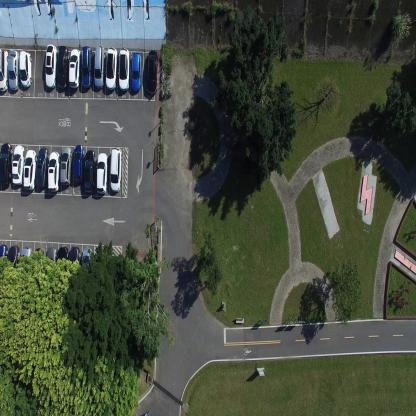car: (7, 244, 20, 291), (22, 149, 36, 190), (68, 245, 81, 289), (146, 50, 159, 94), (20, 245, 33, 288), (45, 43, 57, 89), (7, 48, 20, 90), (47, 150, 60, 192), (118, 47, 130, 92), (94, 44, 106, 89), (0, 141, 12, 186), (45, 245, 57, 289), (105, 46, 117, 90), (110, 148, 122, 192), (83, 149, 95, 193), (68, 49, 81, 89), (56, 45, 68, 88), (81, 46, 93, 88), (96, 152, 108, 194), (36, 146, 48, 188), (19, 50, 32, 88), (81, 246, 93, 287), (12, 144, 24, 185), (57, 244, 68, 288), (72, 144, 84, 183), (60, 145, 71, 187), (131, 51, 142, 92), (34, 246, 44, 288), (0, 48, 8, 93), (0, 242, 7, 288)
